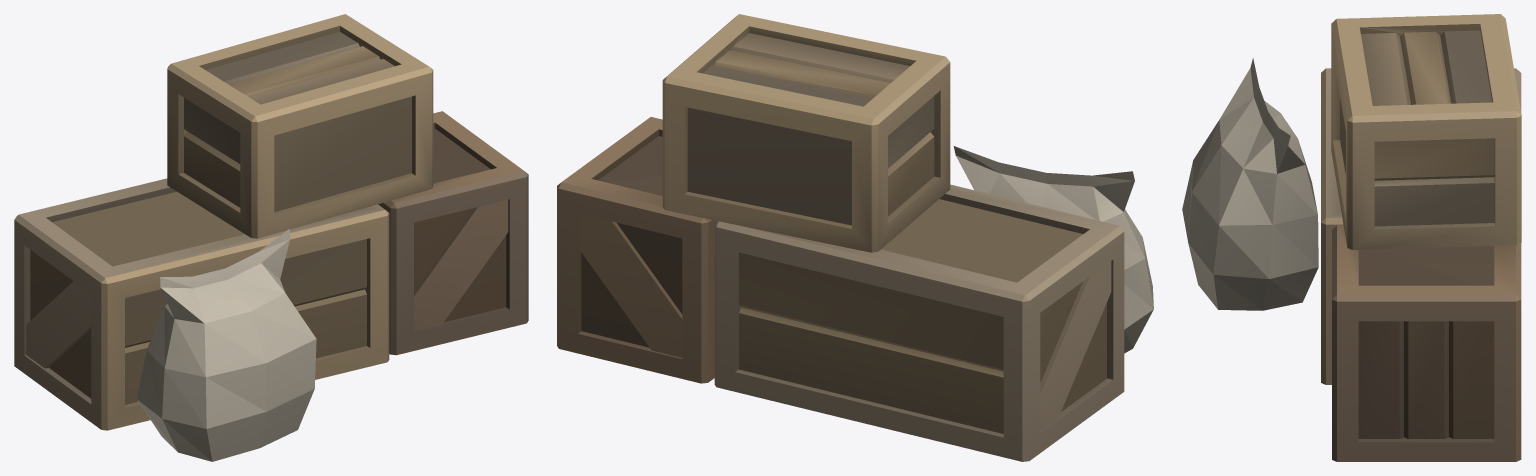
File: freight.glb
3 renders of one model, left to right at view 1: azimuth 30°, elevation 25°; view 2: azimuth 150°, elevation 25°; view 3: azimuth 270°, elevation 25°, orthographic. The views are drawn at different scales.
Visible parts, largest first — view 1: freight; view 2: freight; view 3: freight.
Boxes of the visible parts, x1,y1,x2,y2 form: freight: [14, 14, 528, 461]; freight: [557, 14, 1153, 461]; freight: [1182, 14, 1521, 461].
Size of the model in its own units: 1.5 by 0.9 by 0.9323.
